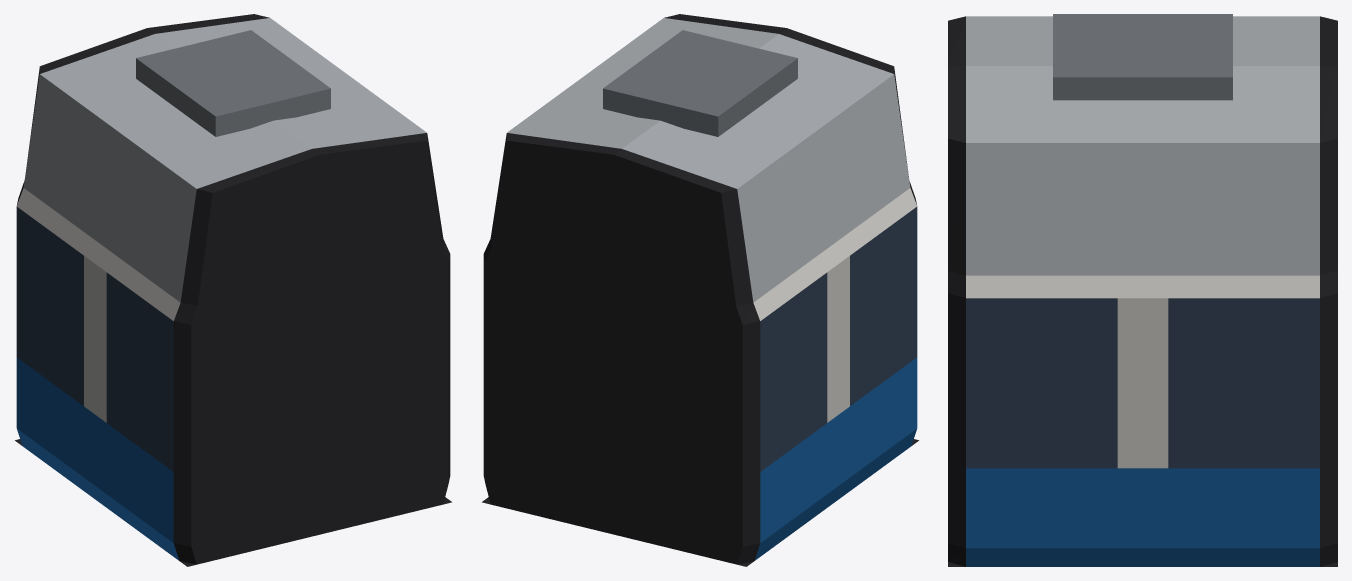
File: tram2000_zwischen.glb
3 views of the same model, side by side, from view 1: azimuth 30°, elevation 25°; view 2: azimuth 150°, elevation 25°; view 3: azimuth 270°, elevation 25° (orthographic). The views are drawn at different scales.
Visible parts, largest first — view 1: body; view 2: body; view 3: body.
Boxes of the visible parts, left/top/right/bottom form: body: left=15, top=14, right=451, bottom=566; body: left=482, top=14, right=918, bottom=566; body: left=948, top=14, right=1337, bottom=566.
Size of the model in its own units: 2.4 by 3.3 by 2.6.
